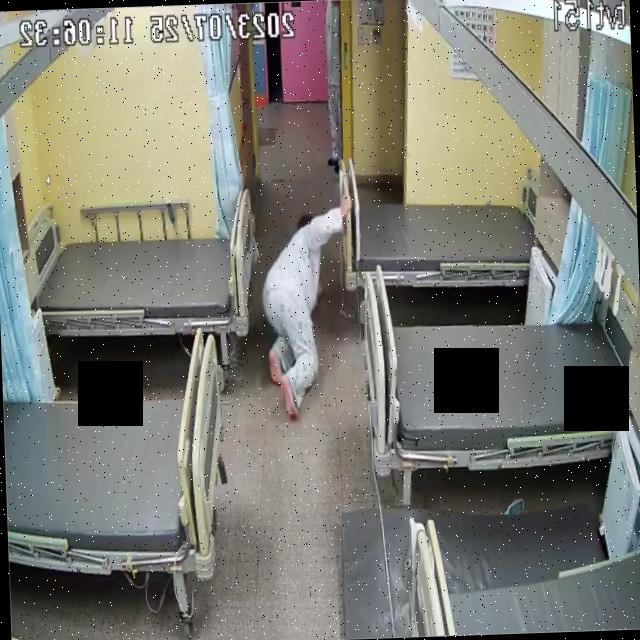bed: (0, 328, 228, 580), (362, 307, 630, 469), (20, 215, 258, 342), (342, 185, 534, 290)
fall: (258, 192, 362, 420)
patient: (258, 192, 360, 418)
